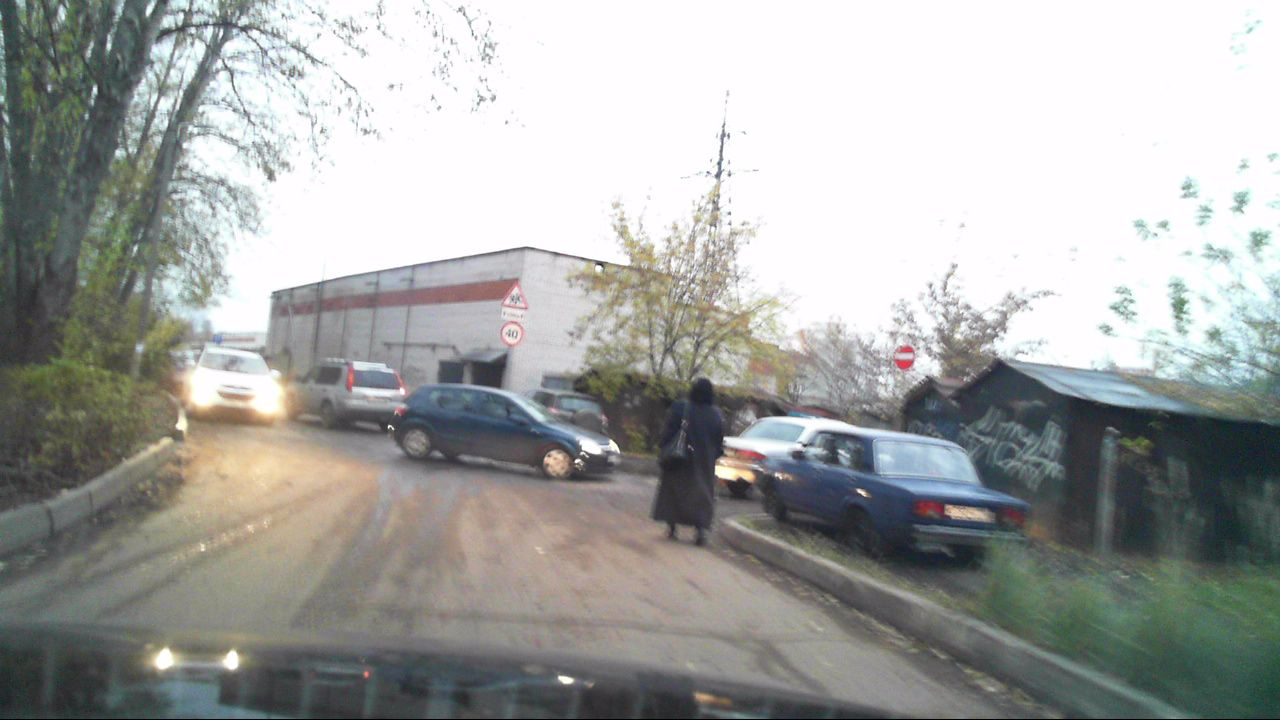speed_warning_40: (500, 323, 524, 344)
